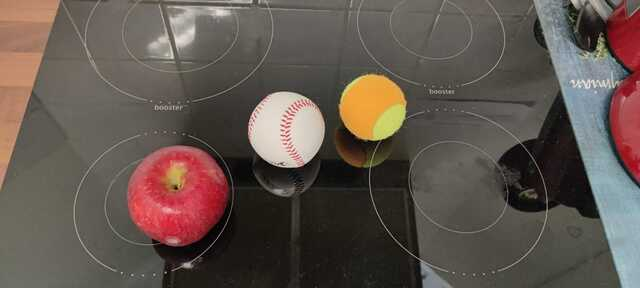013_apple: (126, 143, 230, 248)
055_baseball: (246, 90, 328, 169)
056_tennis_ball: (337, 73, 407, 141)
